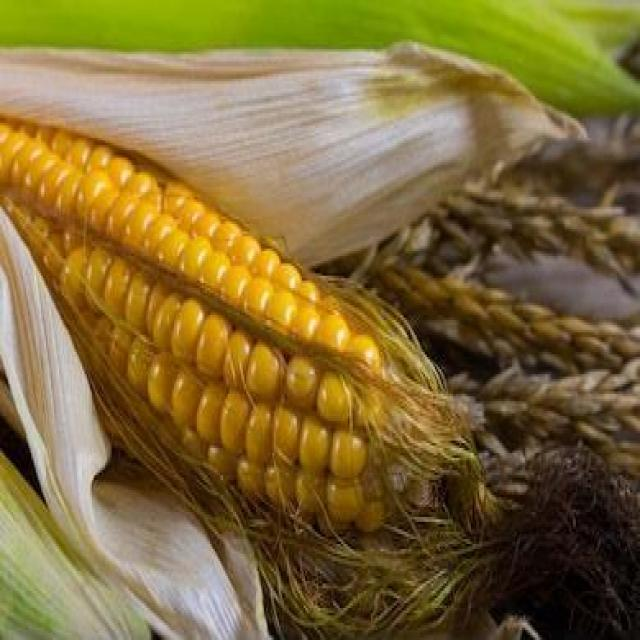Corn ear: (0, 135, 384, 527)
